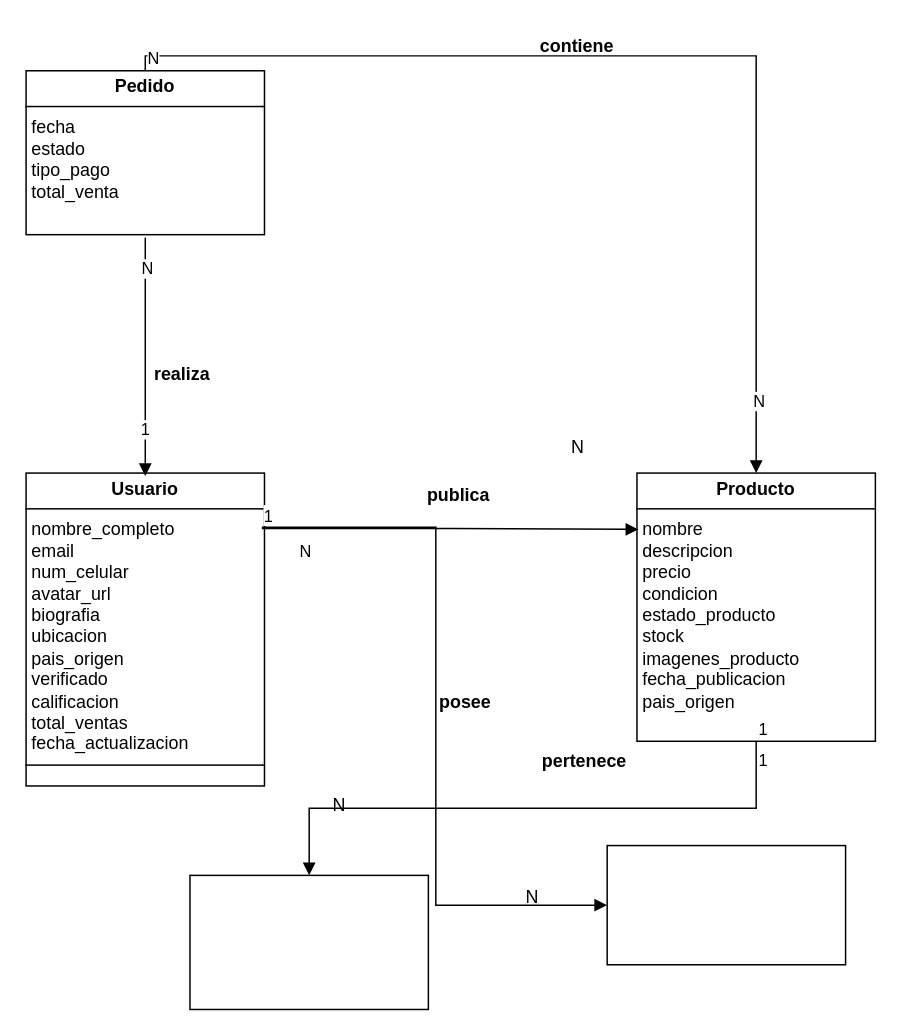
Some shapes in this 901 by 1036 pixel diagram are drawn without their labels. Each missing label, with the box of its shape:
Categoria nombre descripcion icono: (188, 874, 428, 1009)
Roles nombre descripcion: (606, 844, 846, 965)
